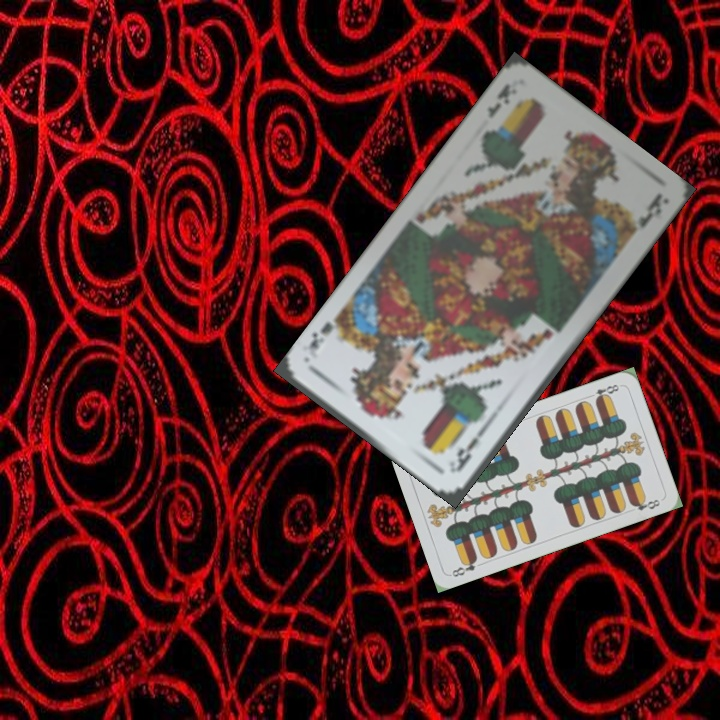E8: (584, 380, 622, 404), (448, 554, 480, 580)
EK: (452, 423, 489, 475), (483, 79, 513, 121)
